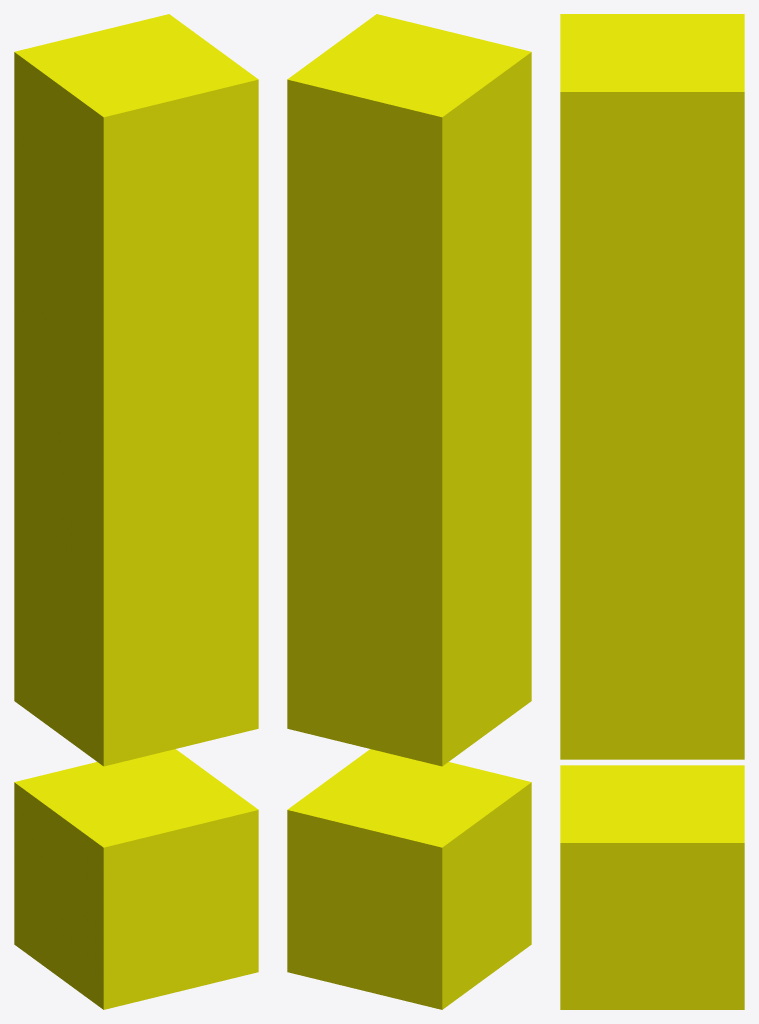
3 renders of one model, left to right at view 1: azimuth 30°, elevation 25°; view 2: azimuth 150°, elevation 25°; view 3: azimuth 270°, elevation 25°, orthographic. The views are drawn at different scales.
Parts seen in each view (by area): view 1: Cube; view 2: Cube; view 3: Cube.
Part boxes in pixels (left/top/right/bottom): Cube: left=14, top=14, right=258, bottom=1009; Cube: left=287, top=14, right=531, bottom=1009; Cube: left=560, top=14, right=744, bottom=1009.
Bounding box in the file's own units: 2 × 11 × 2.
